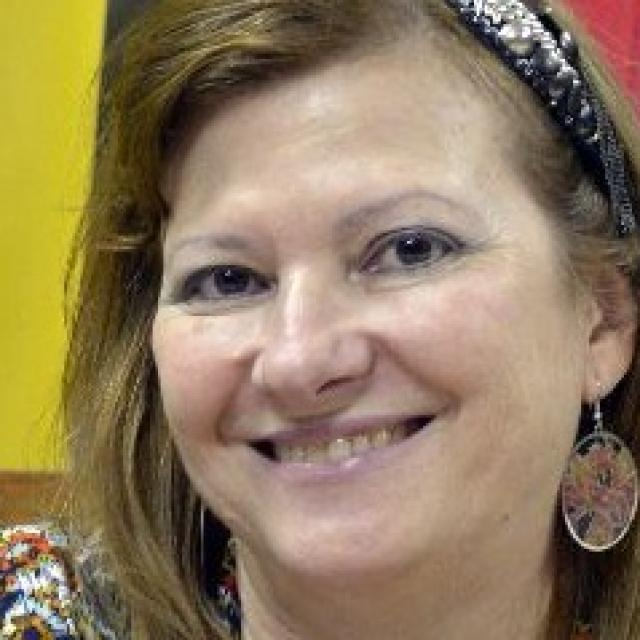Normal: (151, 23, 589, 579)
